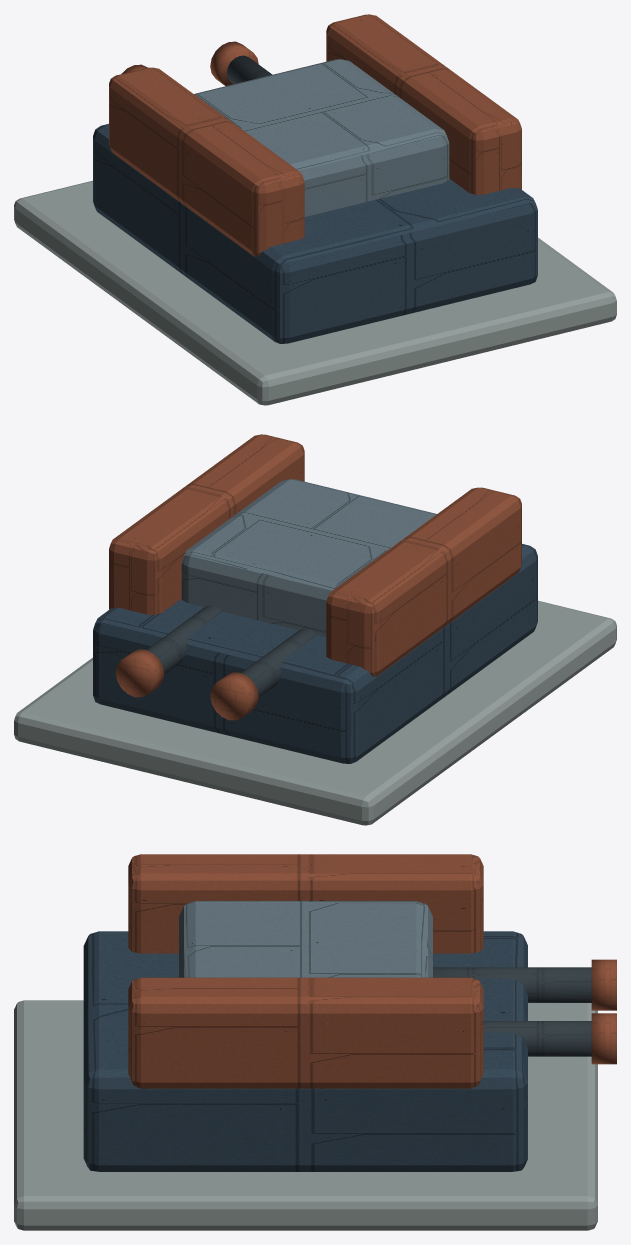
The model's file is missile-site.glb.
3 views of the same model, one above another, from view 1: azimuth 30°, elevation 25°; view 2: azimuth 150°, elevation 25°; view 3: azimuth 270°, elevation 25° (orthographic). The views are drawn at different scales.
Visible parts, largest first — view 1: core-navy-surfaces, core-Roof membrane-surfaces, core-hostile-surfaces, core-titanium-surfaces, core-graphite-surfaces; view 2: core-Roof membrane-surfaces, core-hostile-surfaces, core-navy-surfaces, core-titanium-surfaces, core-graphite-surfaces; view 3: core-hostile-surfaces, core-Roof membrane-surfaces, core-navy-surfaces, core-titanium-surfaces, core-graphite-surfaces.
Part boxes in pixels (x1,y1,x2,y2): core-navy-surfaces: [93, 124, 537, 343]; core-Roof membrane-surfaces: [14, 180, 616, 405]; core-hostile-surfaces: [109, 14, 521, 256]; core-titanium-surfaces: [194, 59, 449, 216]; core-graphite-surfaces: [227, 55, 272, 83]; core-Roof membrane-surfaces: [14, 600, 616, 825]; core-hostile-surfaces: [109, 434, 521, 720]; core-navy-surfaces: [93, 544, 537, 763]; core-titanium-surfaces: [181, 479, 436, 636]; core-graphite-surfaces: [146, 605, 316, 696]; core-hostile-surfaces: [128, 854, 616, 1088]; core-Roof membrane-surfaces: [14, 1000, 597, 1230]; core-navy-surfaces: [83, 931, 527, 1171]; core-titanium-surfaces: [179, 901, 432, 977]; core-graphite-surfaces: [433, 967, 591, 1056].
Size of the model in its own units: 3.8 by 1.8 by 4.75.
5 materials, 4 textured.
